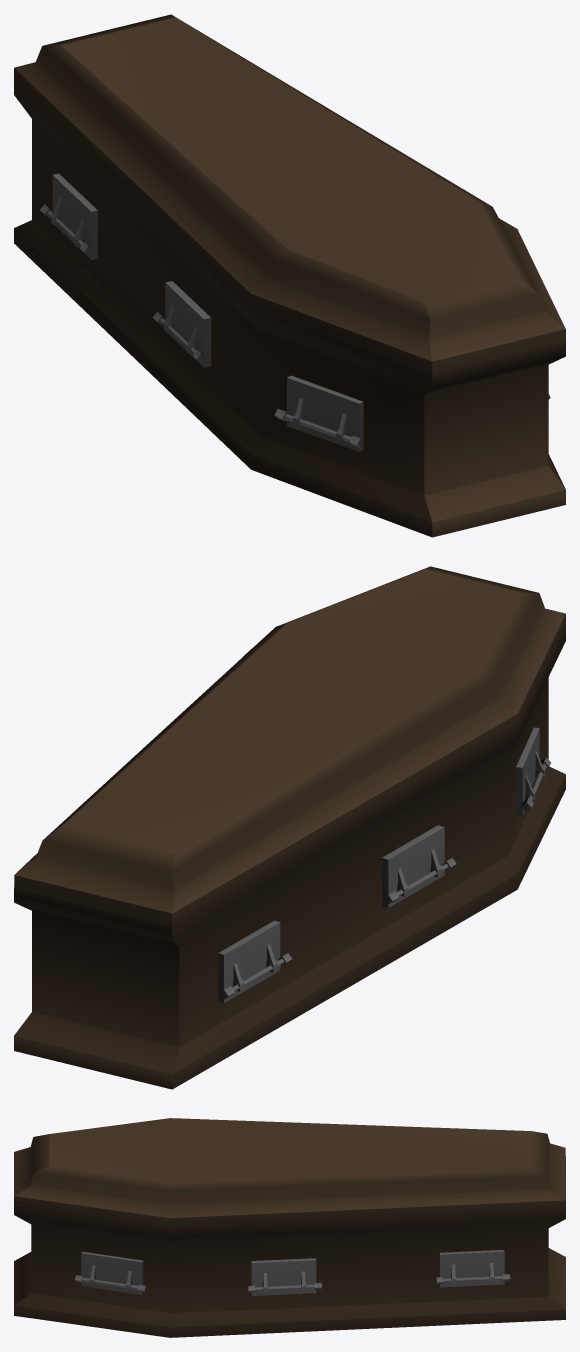
The model's file is human-containers-coffin_v2.fbx.
The picture shows the model from 3 angles, top to bottom: view 1: azimuth 30°, elevation 25°; view 2: azimuth 150°, elevation 25°; view 3: azimuth 270°, elevation 25°; orthographic projection. The views are drawn at different scales.
Visible parts, largest first — view 1: Coffin_v2; view 2: Coffin_v2; view 3: Coffin_v2.
Boxes of the visible parts, <box> form: Coffin_v2: <box>14,14,565,537</box>; Coffin_v2: <box>14,566,565,1089</box>; Coffin_v2: <box>14,1118,565,1337</box>.
Bounding box in the file's own units: 0.7584 × 0.5739 × 2.
